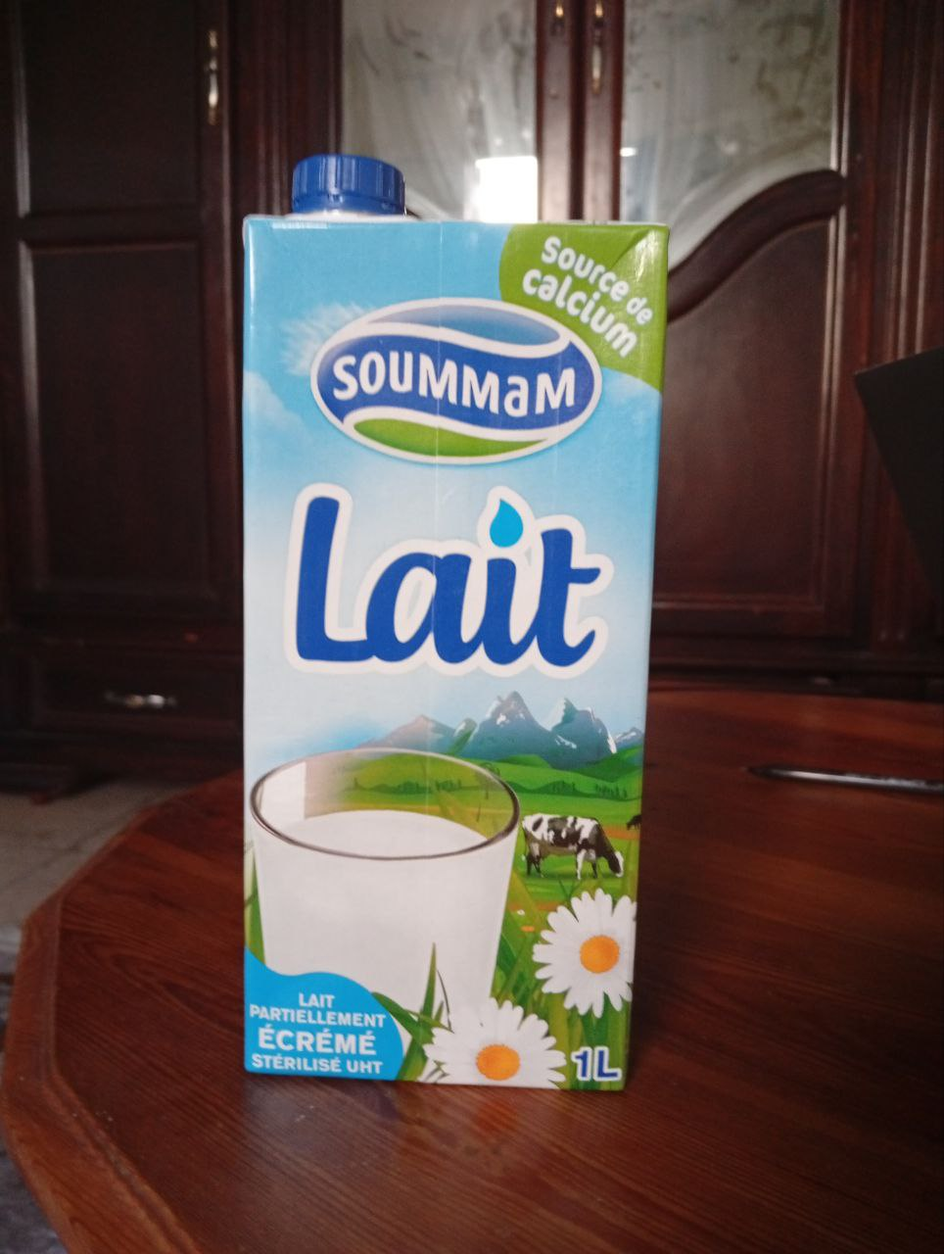soummam_milk: (212, 139, 679, 1126)
